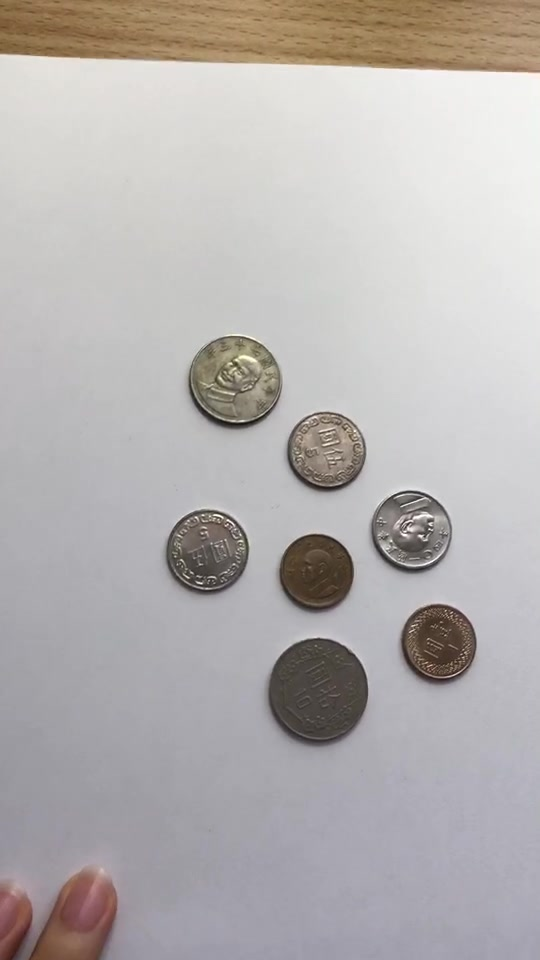1 dallar: (274, 530, 361, 615), (395, 600, 482, 685)
10 dallar: (257, 634, 375, 747), (182, 326, 284, 436)
5 dallar: (159, 504, 256, 599), (284, 401, 381, 496), (364, 481, 461, 576)
